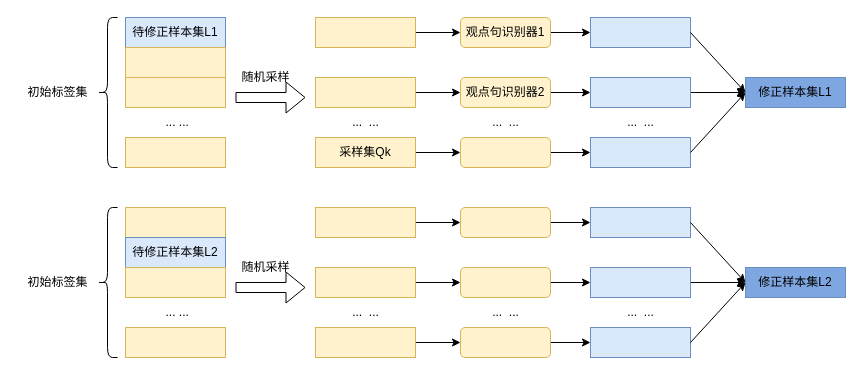
Some shapes in this 863 by 375 pixel diagram are drawn without their labels. Here are the shapes that lost their labels. From the top down, the centre of each, then its label:
At [365,32]: "采样集Q1".
At [365,92]: "采样集Q2".
At [505,152]: "观点句识别器k".
